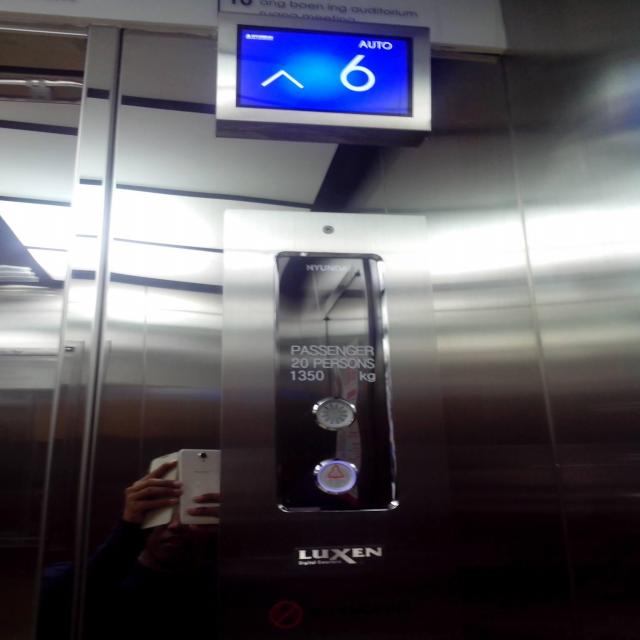alarm: (312, 458, 359, 495)
led: (230, 20, 418, 119)
speaker: (310, 396, 358, 432)
